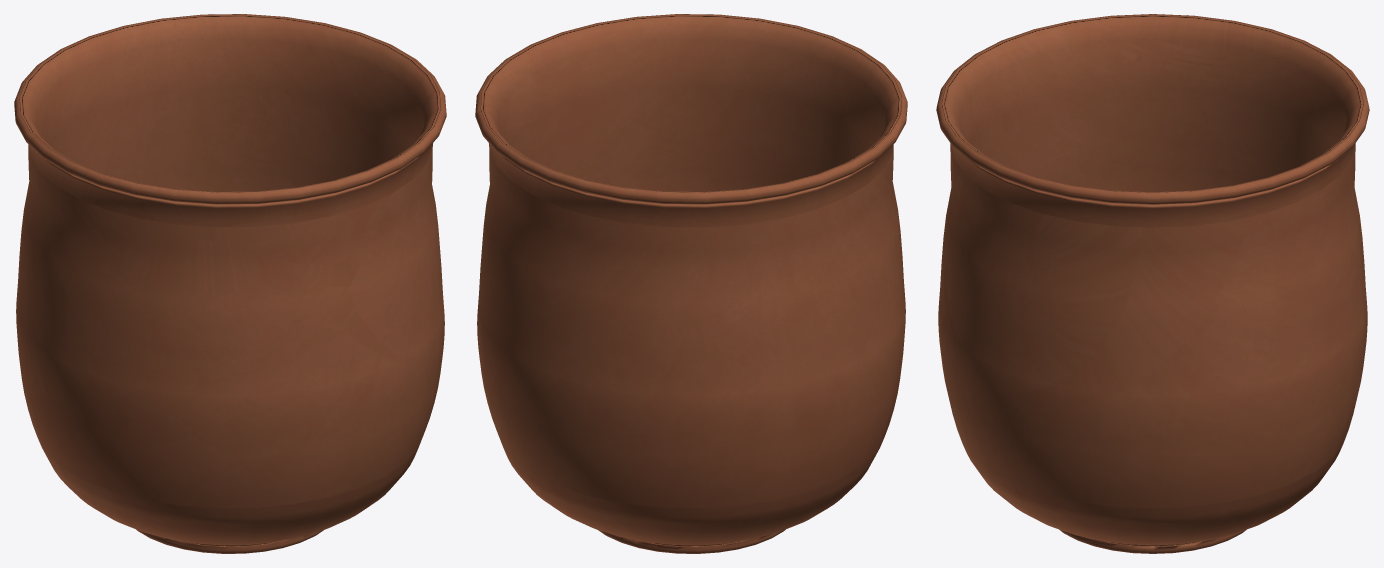
Rendered from Ceramic pot.glb.
3 renders of one model, left to right at view 1: azimuth 30°, elevation 25°; view 2: azimuth 150°, elevation 25°; view 3: azimuth 270°, elevation 25°, orthographic.
Parts seen in each view (by area): view 1: Ceramicpot; view 2: Ceramicpot; view 3: Ceramicpot.
Part boxes in pixels (left/top/right/bottom): Ceramicpot: left=14, top=14, right=446, bottom=553; Ceramicpot: left=475, top=14, right=907, bottom=553; Ceramicpot: left=936, top=14, right=1369, bottom=553.
Bounding box in the file's own units: 0.4288 × 0.4441 × 0.4288.
3 materials, 2 textured.
